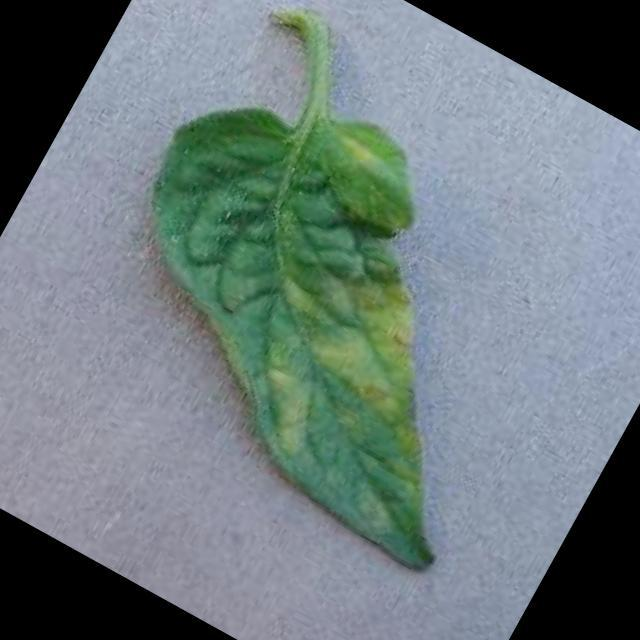Tomato mold leaf: (42, 47, 602, 584)
